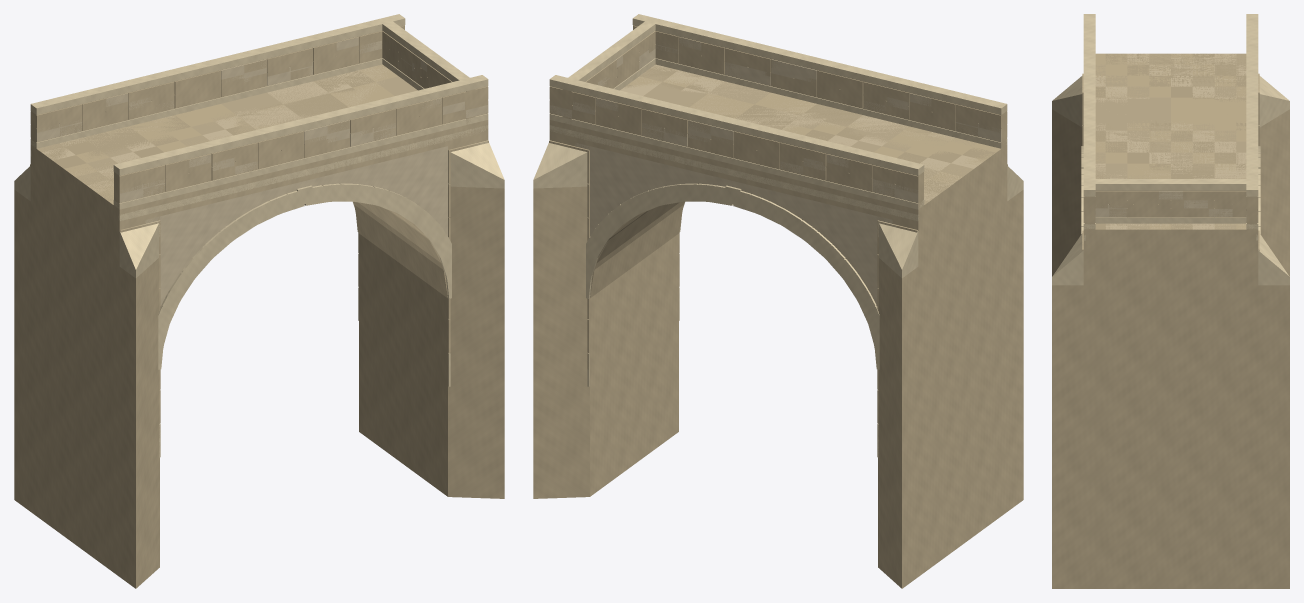
File: verona_bridge_end.glb
3 renders of one model, left to right at view 1: azimuth 30°, elevation 25°; view 2: azimuth 150°, elevation 25°; view 3: azimuth 270°, elevation 25°, orthographic. The views are drawn at different scales.
Visible parts, largest first — view 1: Travertine.001, Limestone_trim.001, Limestone_trim.003, Travertine.003, Limewash.001, Limewash.003, Travertine.004, Paving_3.004, Paving_1.003, Limewash.004, Paving_0.003, Paving_1.004 (+8 smaller); view 2: Travertine.001, Limestone_trim.001, Limestone_trim.003, Travertine.003, Limewash.001, Limewash.003, Travertine.004, Limewash.004, Paving_2.003, Paving_0.001, Paving_1.003, Paving_0.004 (+8 smaller); view 3: Travertine.001, Limestone_trim.001, Paving_0.004, Paving_3.001, Paving_2.001, Paving_1.001, Paving_0.001, Travertine.003, Paving_3.004, Limestone_trim.003, Paving_1.003, Paving_2.003 (+4 smaller).
Boxes of the visible parts, <box> form: Travertine.001: <box>14,25,504,588</box>; Limestone_trim.001: <box>14,14,504,369</box>; Limestone_trim.003: <box>30,14,488,457</box>; Travertine.003: <box>30,26,488,423</box>; Limewash.001: <box>37,37,487,305</box>; Limewash.003: <box>30,59,447,303</box>; Travertine.004: <box>353,201,447,298</box>; Paving_3.004: <box>222,82,347,128</box>; Paving_1.003: <box>76,70,374,192</box>; Limewash.004: <box>153,147,447,290</box>; Paving_0.003: <box>99,65,396,204</box>; Paving_1.004: <box>37,126,162,176</box>; Travertine.001: <box>533,25,1023,588</box>; Limestone_trim.001: <box>533,14,1023,386</box>; Limestone_trim.003: <box>549,14,1007,457</box>; Travertine.003: <box>549,26,1007,423</box>; Limewash.001: <box>550,37,1000,305</box>; Limewash.003: <box>576,49,1007,305</box>; Travertine.004: <box>590,201,684,298</box>; Limewash.004: <box>577,144,888,292</box>; Paving_2.003: <box>620,70,961,192</box>; Paving_0.001: <box>628,75,1000,184</box>; Paving_1.003: <box>640,64,983,176</box>; Paving_0.004: <box>881,126,999,175</box>; Travertine.001: <box>1052,75,1289,588</box>; Limestone_trim.001: <box>1052,14,1289,285</box>; Paving_0.004: <box>1095,53,1246,141</box>; Paving_3.001: <box>1095,53,1246,229</box>; Paving_2.001: <box>1095,53,1246,229</box>; Paving_1.001: <box>1095,53,1246,229</box>; Paving_0.001: <box>1095,53,1246,229</box>; Travertine.003: <box>1082,73,1259,250</box>; Paving_3.004: <box>1095,97,1244,178</box>; Limestone_trim.003: <box>1081,14,1260,236</box>; Paving_1.003: <box>1095,53,1246,229</box>; Paving_2.003: <box>1095,53,1246,229</box>.
Bounding box in the file's own units: 10.5 × 11.1 × 6.
7 materials, 3 textured.
